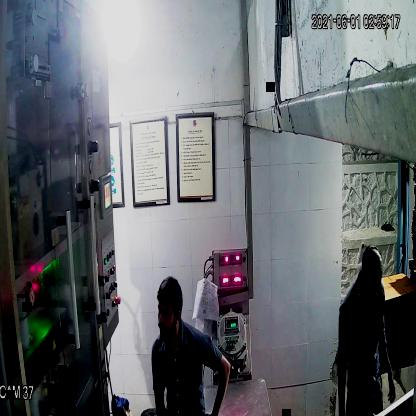no_goggles: (152, 302, 182, 324)
